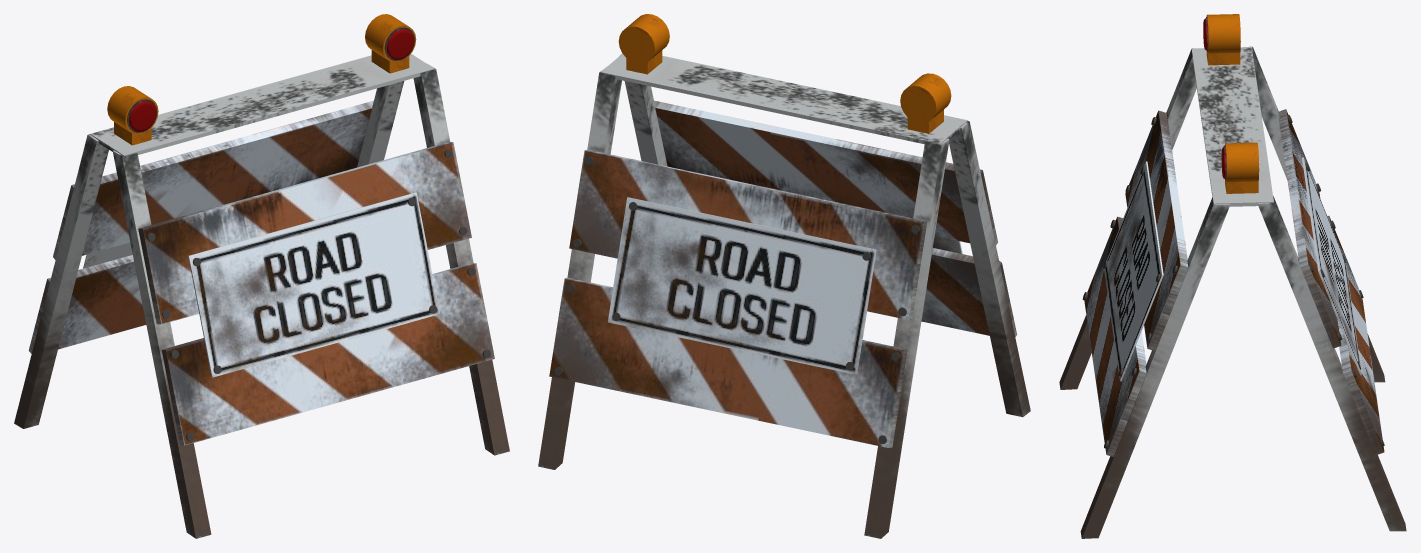
The model's file is Barricade.fbx.
3 views of the same model, side by side, from view 1: azimuth 30°, elevation 25°; view 2: azimuth 150°, elevation 25°; view 3: azimuth 270°, elevation 25° (orthographic). The views are drawn at different scales.
Parts seen in each view (by area): view 1: Road barrier "ROAD CLOSED"; view 2: Road barrier "ROAD CLOSED"; view 3: Road barrier "ROAD CLOSED".
Boxes of the visible parts, <box> form: Road barrier "ROAD CLOSED": <box>14,14,509,538</box>; Road barrier "ROAD CLOSED": <box>538,14,1030,538</box>; Road barrier "ROAD CLOSED": <box>1059,14,1406,538</box>.
Size of the model in its own units: 188 by 200 by 167.
Materials: 1 (1 with a texture image).
